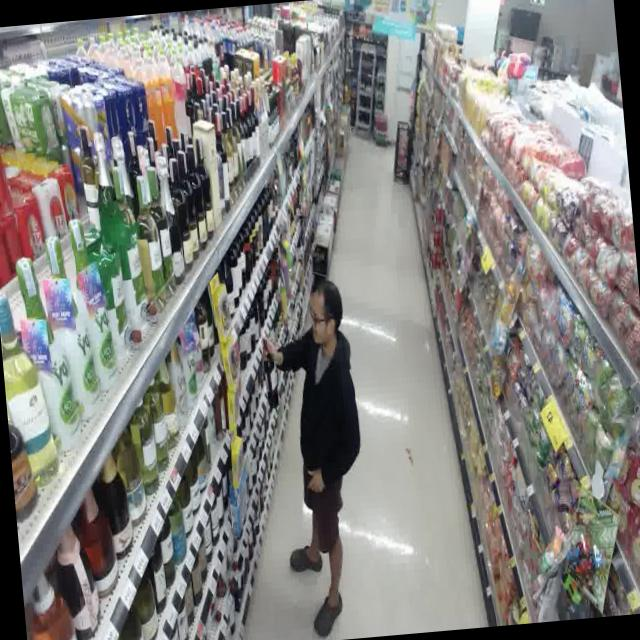pickup: (238, 249, 392, 640)
